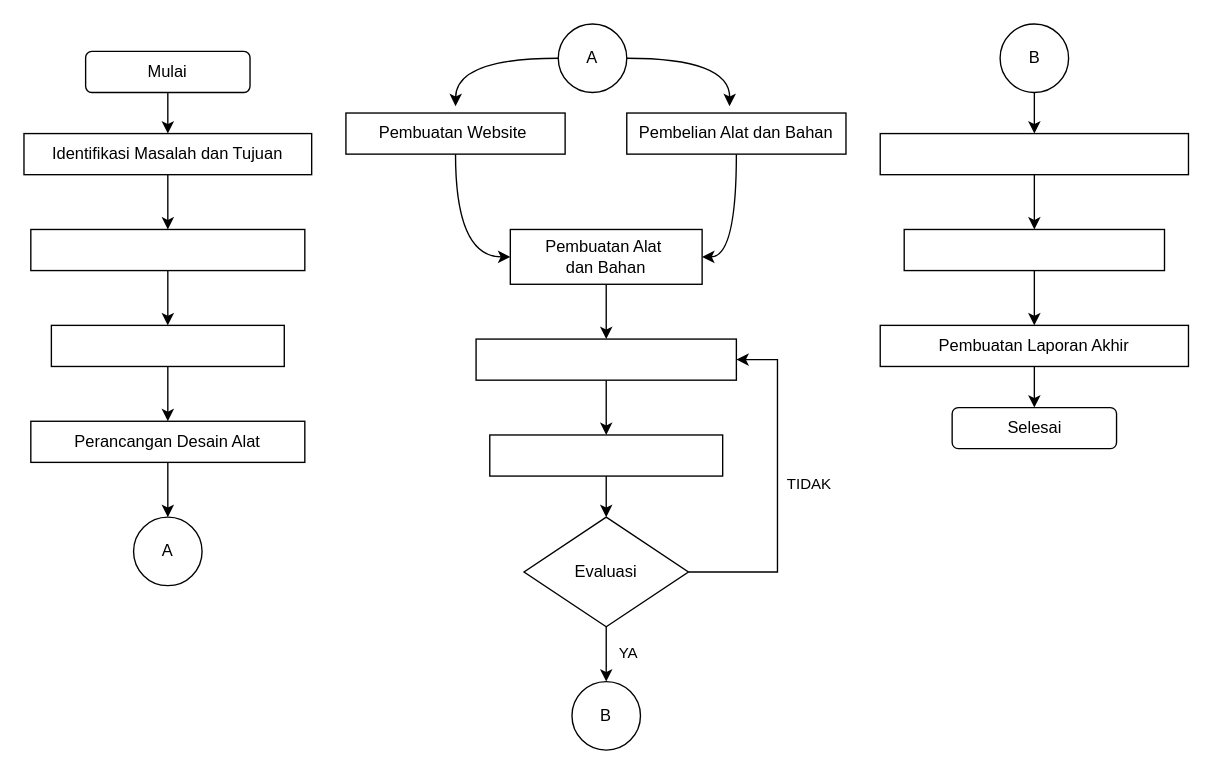
The diagram is 1212 pixels wide and 774 high, and some of its shapes have lost their labels. The shapes that lost their labels are listed below. From the top down, each one's centre as x and y in pixels, then its label:
the point at 1033,153: Pembuatan Laporan Kemajuan
the point at 167,249: Pembuatan Akun Media Sosial
the point at 1033,249: Pembuatan Artikel Ilmiah
the point at 167,345: Studi Pendahuluan
the point at 605,359: Uji Coba dan Troubleshooting
the point at 605,455: Perakitan Alat
